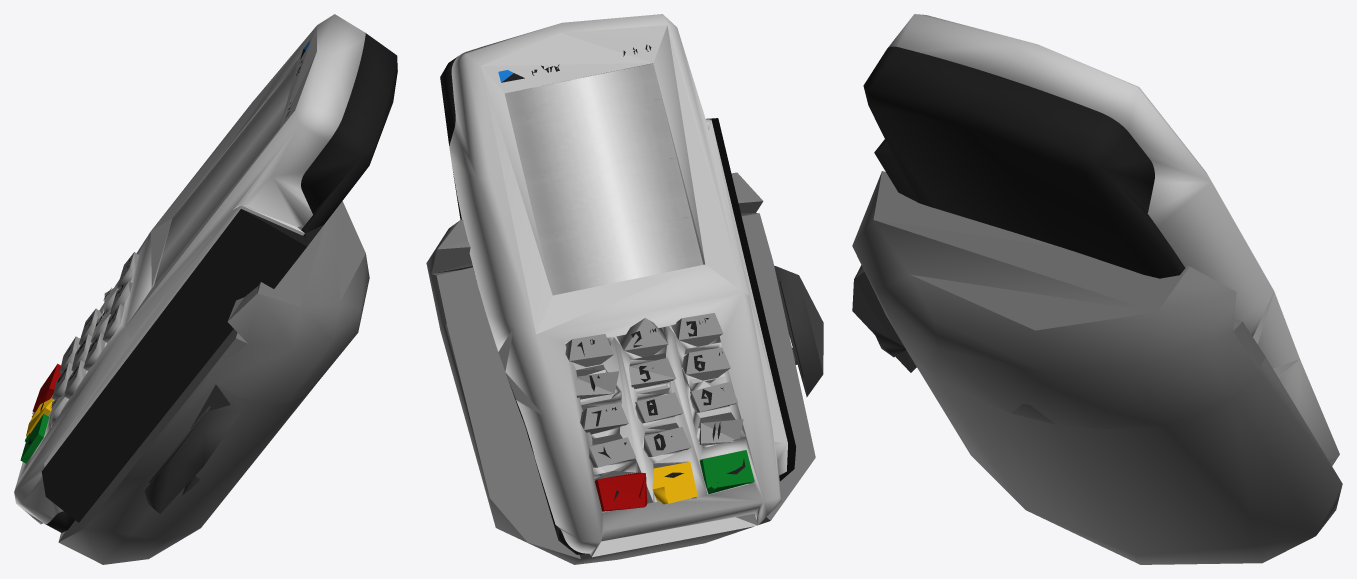
File: card_reader.glb
3 views of the same model, side by side, from view 1: azimuth 30°, elevation 25°; view 2: azimuth 150°, elevation 25°; view 3: azimuth 270°, elevation 25° (orthographic). The views are drawn at different scales.
Parts seen in each view (by area): view 1: button#1_w; view 2: button#1_w; view 3: button#1_w.
Boxes of the visible parts, box(x1,y1,x2,y2) form: button#1_w: box(14, 14, 397, 564); button#1_w: box(426, 14, 823, 564); button#1_w: box(852, 14, 1342, 564).
Bounding box in the file's own units: 0.1198 × 0.15 × 0.1139.
Materials: 12 (1 with a texture image).
